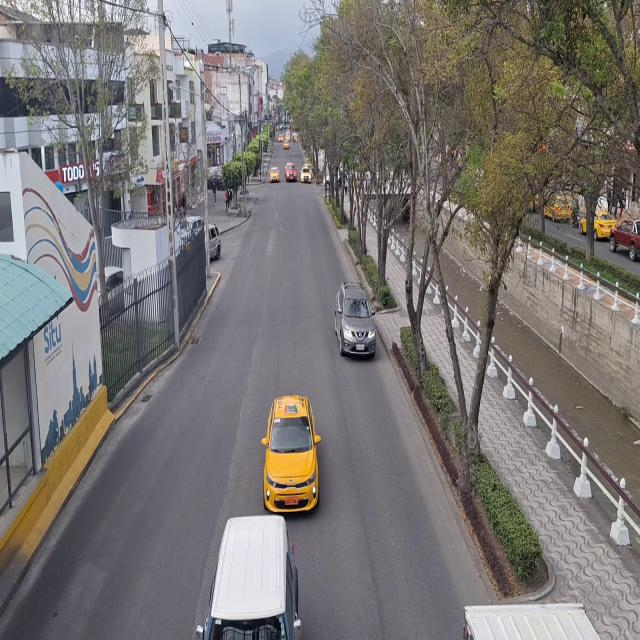CMT: (610, 220, 640, 259)
SED: (264, 400, 318, 514)
SUV: (212, 519, 296, 640), (337, 282, 377, 359)
